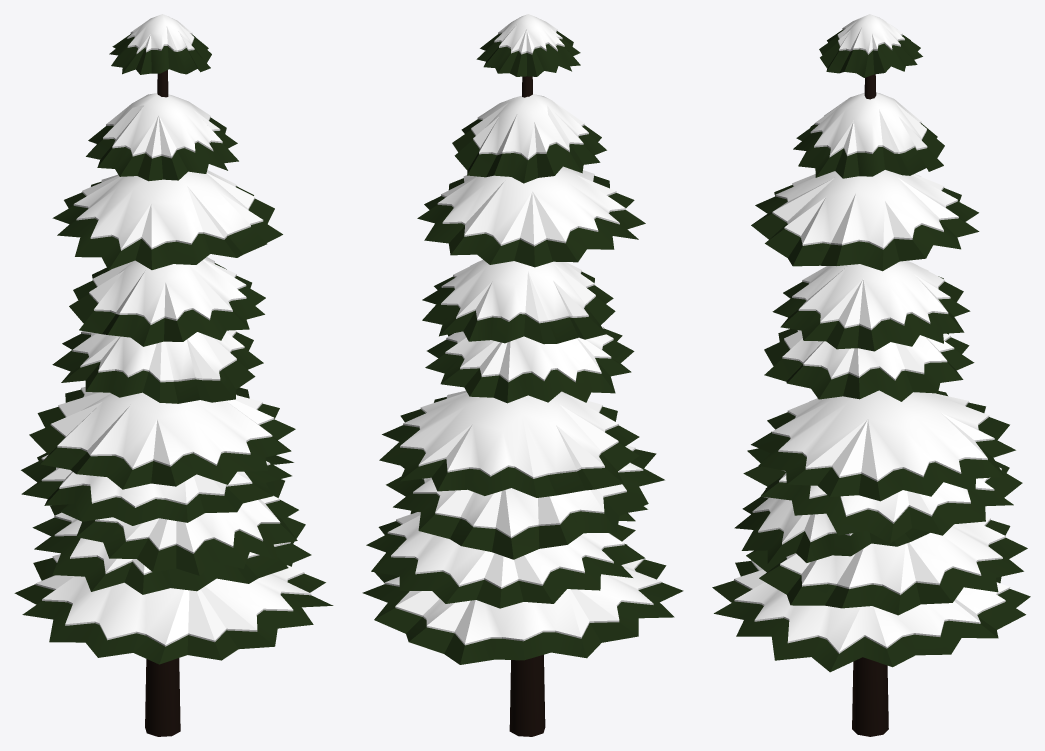
File: s_tree_002.FBX
3 views of the same model, side by side, from view 1: azimuth 30°, elevation 25°; view 2: azimuth 150°, elevation 25°; view 3: azimuth 270°, elevation 25° (orthographic).
Parts seen in each view (by area): view 1: s_tree_leaves_002 (×2); view 2: s_tree_leaves_002 (×2); view 3: s_tree_leaves_002 (×2).
Boxes of the visible parts, box(x1,y1,x2,y2) form: s_tree_leaves_002 (×2): box(14, 14, 333, 736); s_tree_leaves_002 (×2): box(362, 14, 683, 736); s_tree_leaves_002 (×2): box(712, 14, 1030, 736).
Size of the model in its own units: 1.71 by 4.28 by 1.73.
